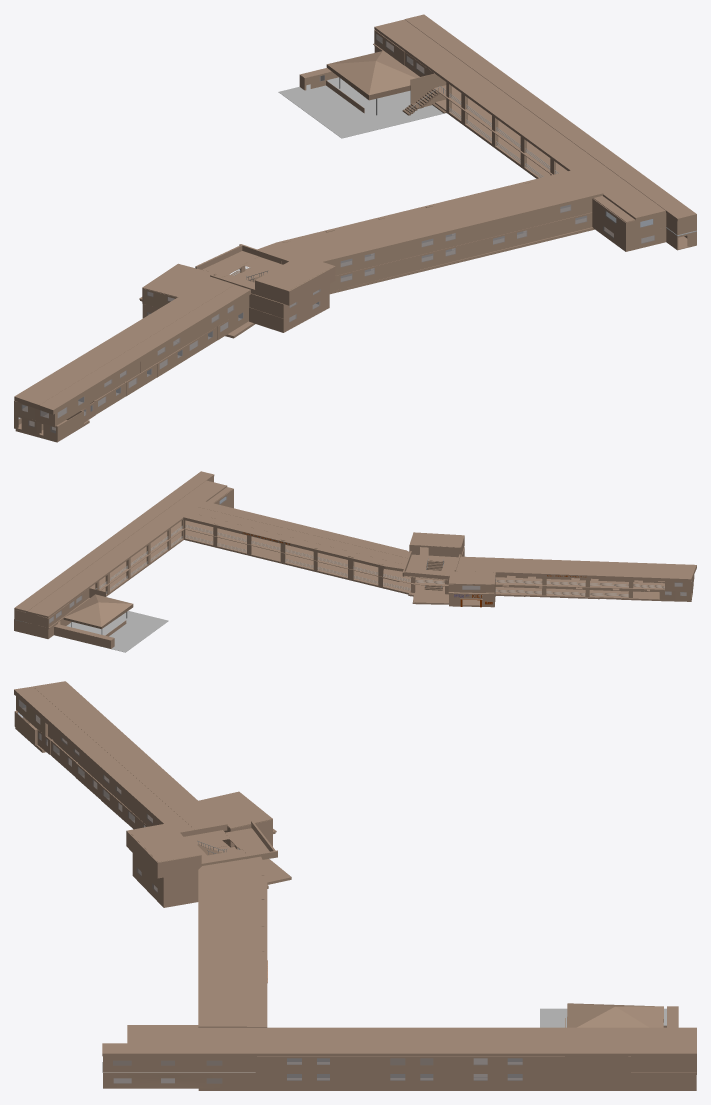
The model's file is KIET_FRONT_Full.fbx.
3 renders of one model, top to bottom at view 1: azimuth 30°, elevation 25°; view 2: azimuth 150°, elevation 25°; view 3: azimuth 270°, elevation 25°, orthographic. The views are drawn at different scales.
Parts seen in each view (by area): view 1: pCube140; view 2: pCube140; view 3: pCube140.
Boxes of the visible parts, box(x1,y1,x2,y2) form: pCube140: box(14, 14, 696, 442); pCube140: box(14, 471, 696, 652); pCube140: box(14, 681, 696, 1090).
Size of the model in its own units: 1337 by 83.1 by 1036.
